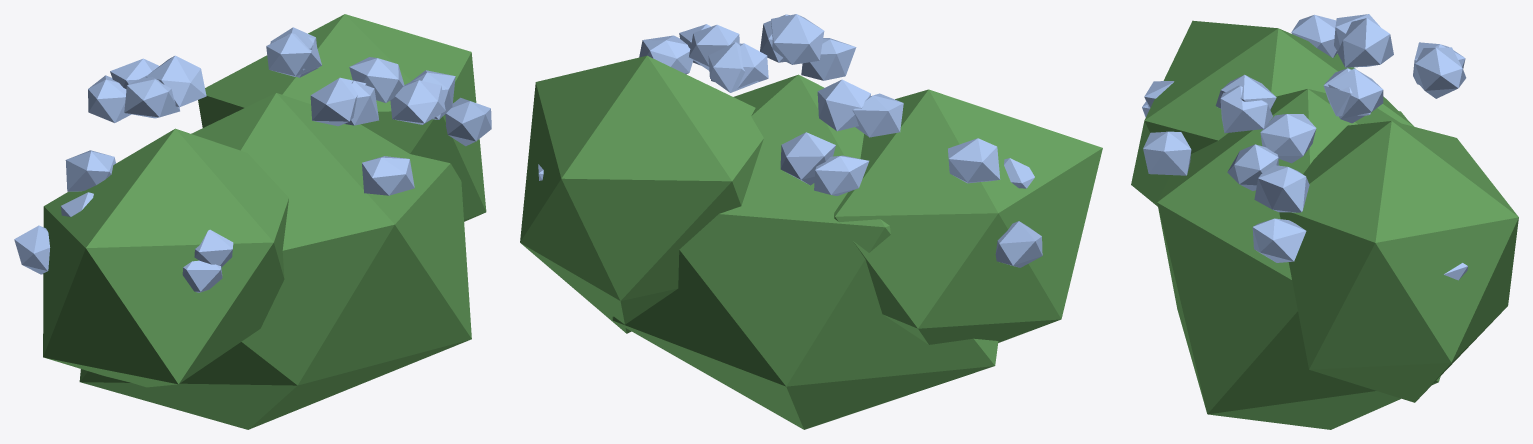
Rendered from plumbago.glb.
The picture shows the model from 3 angles, left to right: view 1: azimuth 30°, elevation 25°; view 2: azimuth 150°, elevation 25°; view 3: azimuth 270°, elevation 25°; orthographic projection. The views are drawn at different scales.
Visible parts, largest first — view 1: SG_Plumbago; view 2: SG_Plumbago; view 3: SG_Plumbago.
Part boxes in pixels (box(x1,y1,x2,y2)): SG_Plumbago: box(14, 14, 491, 429); SG_Plumbago: box(520, 14, 1102, 429); SG_Plumbago: box(1131, 14, 1518, 429).
Size of the model in its own units: 2.39 by 1.82 by 1.64.
